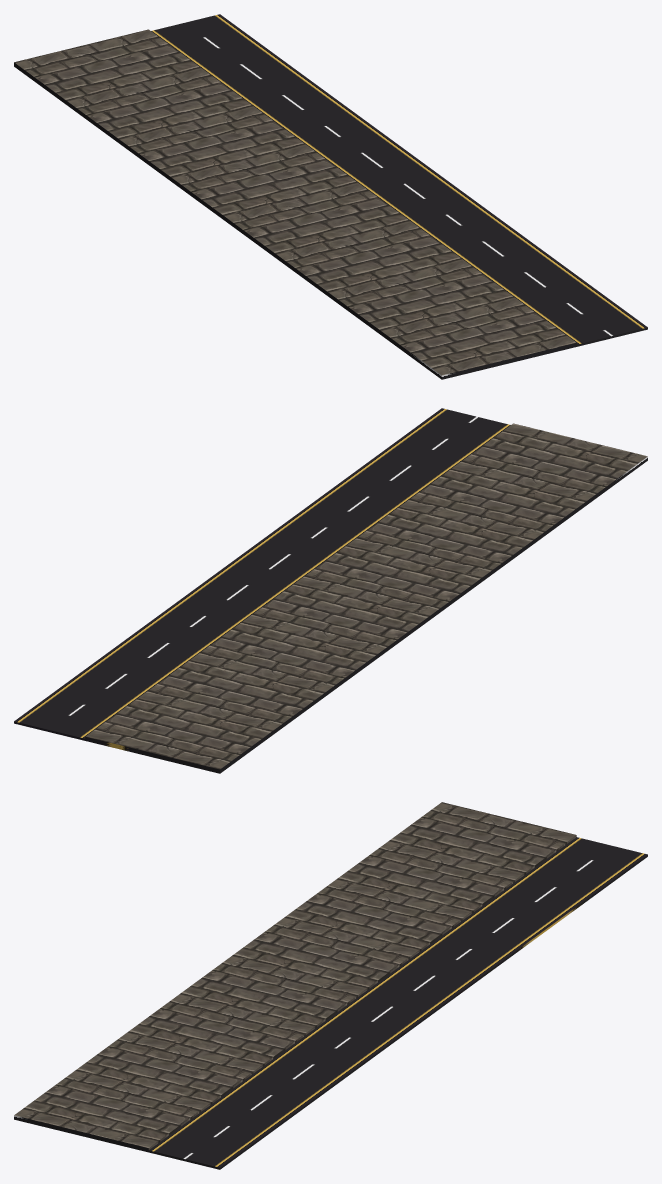
File: road.fbx
3 renders of one model, top to bottom at view 1: azimuth 30°, elevation 25°; view 2: azimuth 150°, elevation 25°; view 3: azimuth 330°, elevation 25°, orthographic.
Visible parts, largest first — view 1: Road; view 2: Road; view 3: Road.
Boxes of the visible parts, x1,y1,x2,y2 form: Road: (14,14,647,379); Road: (14,408,647,773); Road: (14,802,647,1169).
Bounding box in the file's own units: 1207 × 23.95 × 4341.
